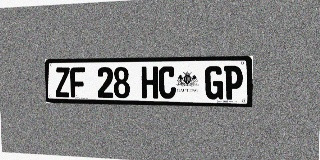2: (97, 67, 113, 98)
8: (113, 67, 130, 98)
C: (159, 66, 176, 99)
F: (70, 67, 85, 97)
G: (205, 66, 223, 100)
H: (141, 66, 158, 99)
P: (224, 66, 243, 100)
Z: (55, 67, 70, 97)
